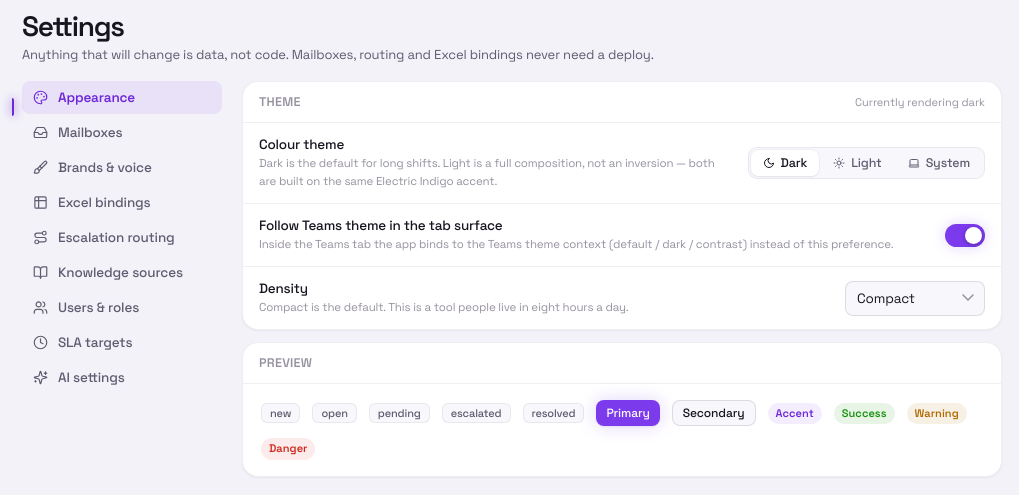
Test: Settings screen (AD-106) › Navigation › switches sections on click
Step 1. Click the button "SLA targets" → (122, 343), box left=22, top=326, right=222, bottom=359
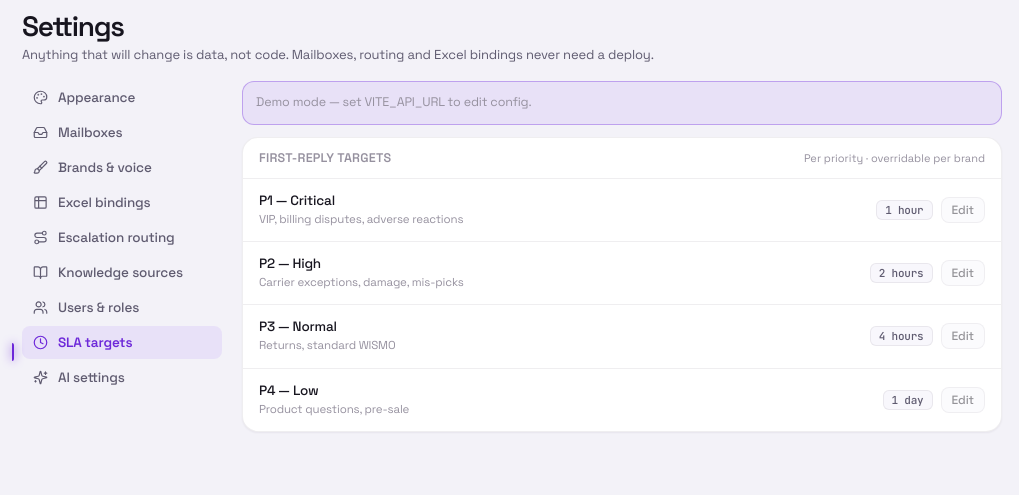
Result: the text "First-reply targets" is shown at left=259, top=150, right=391, bottom=166
